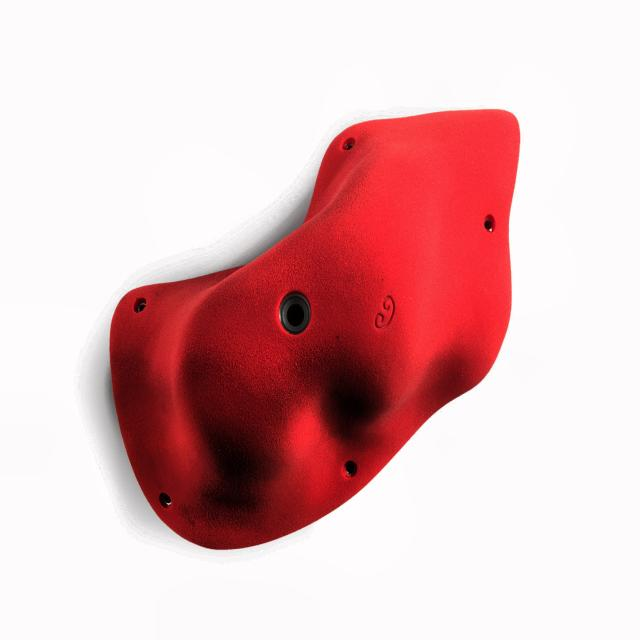Hold: (110, 107, 525, 551)
